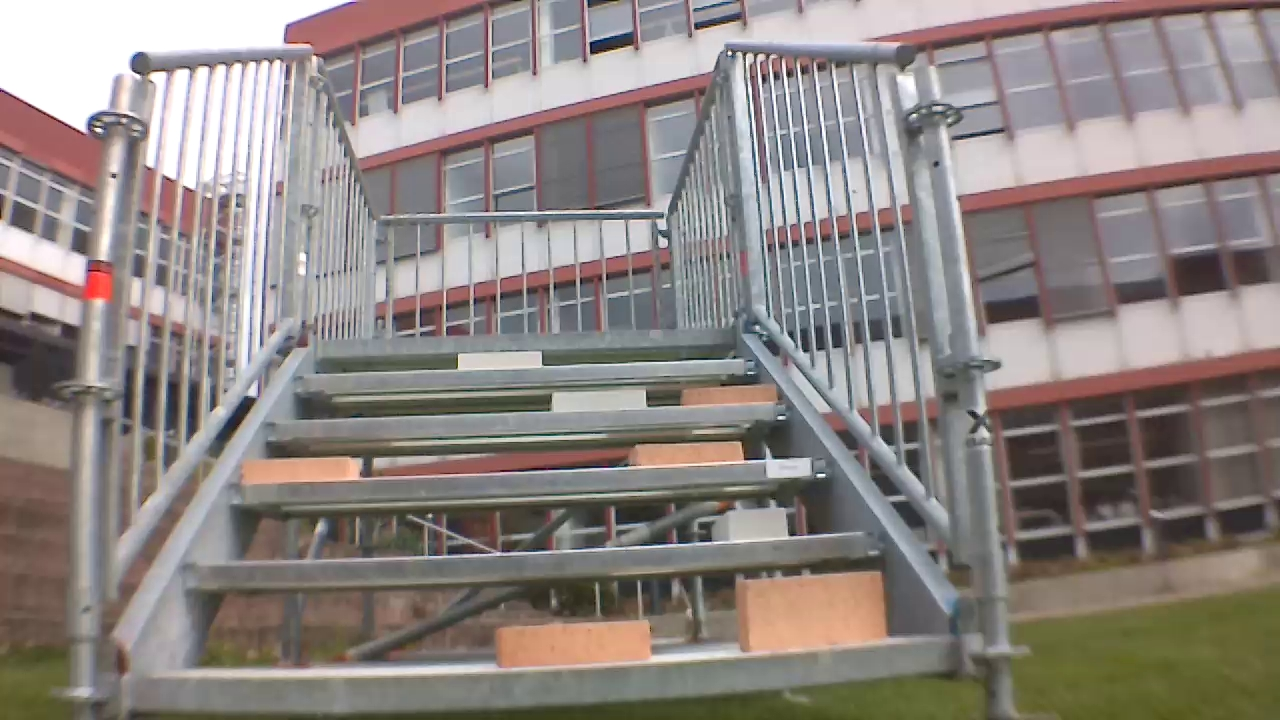brick: (733, 568, 881, 659), (491, 618, 659, 663), (249, 452, 357, 481), (711, 504, 790, 543), (629, 440, 742, 467), (680, 384, 784, 406), (454, 344, 542, 369), (555, 391, 652, 407)
edge: (119, 643, 963, 720), (178, 529, 885, 597), (229, 448, 843, 509), (260, 401, 807, 445), (297, 354, 761, 395), (318, 324, 748, 355)
stairs: (81, 46, 1008, 712)
steps: (22, 329, 998, 714)
